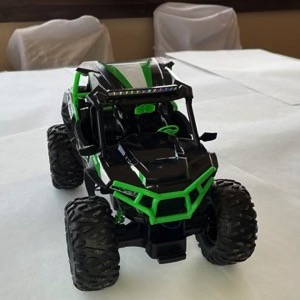polaris: (45, 60, 261, 293)
